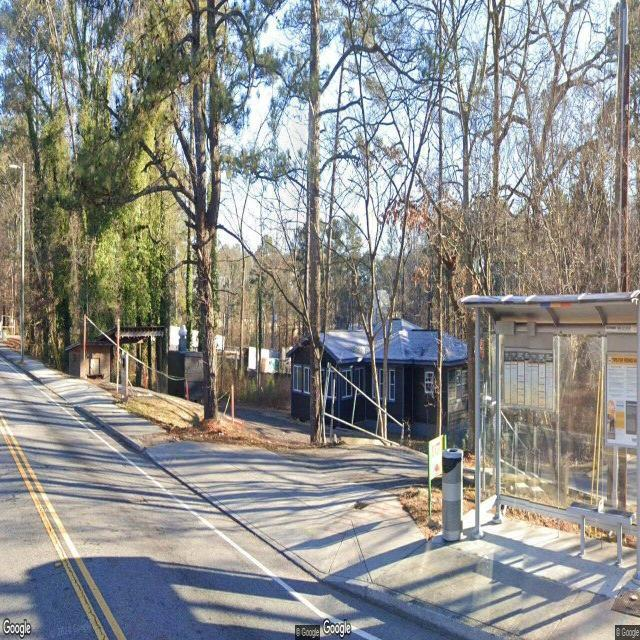seating: (568, 501, 634, 565)
shelter: (459, 286, 640, 578)
trash_can: (441, 448, 463, 541)
